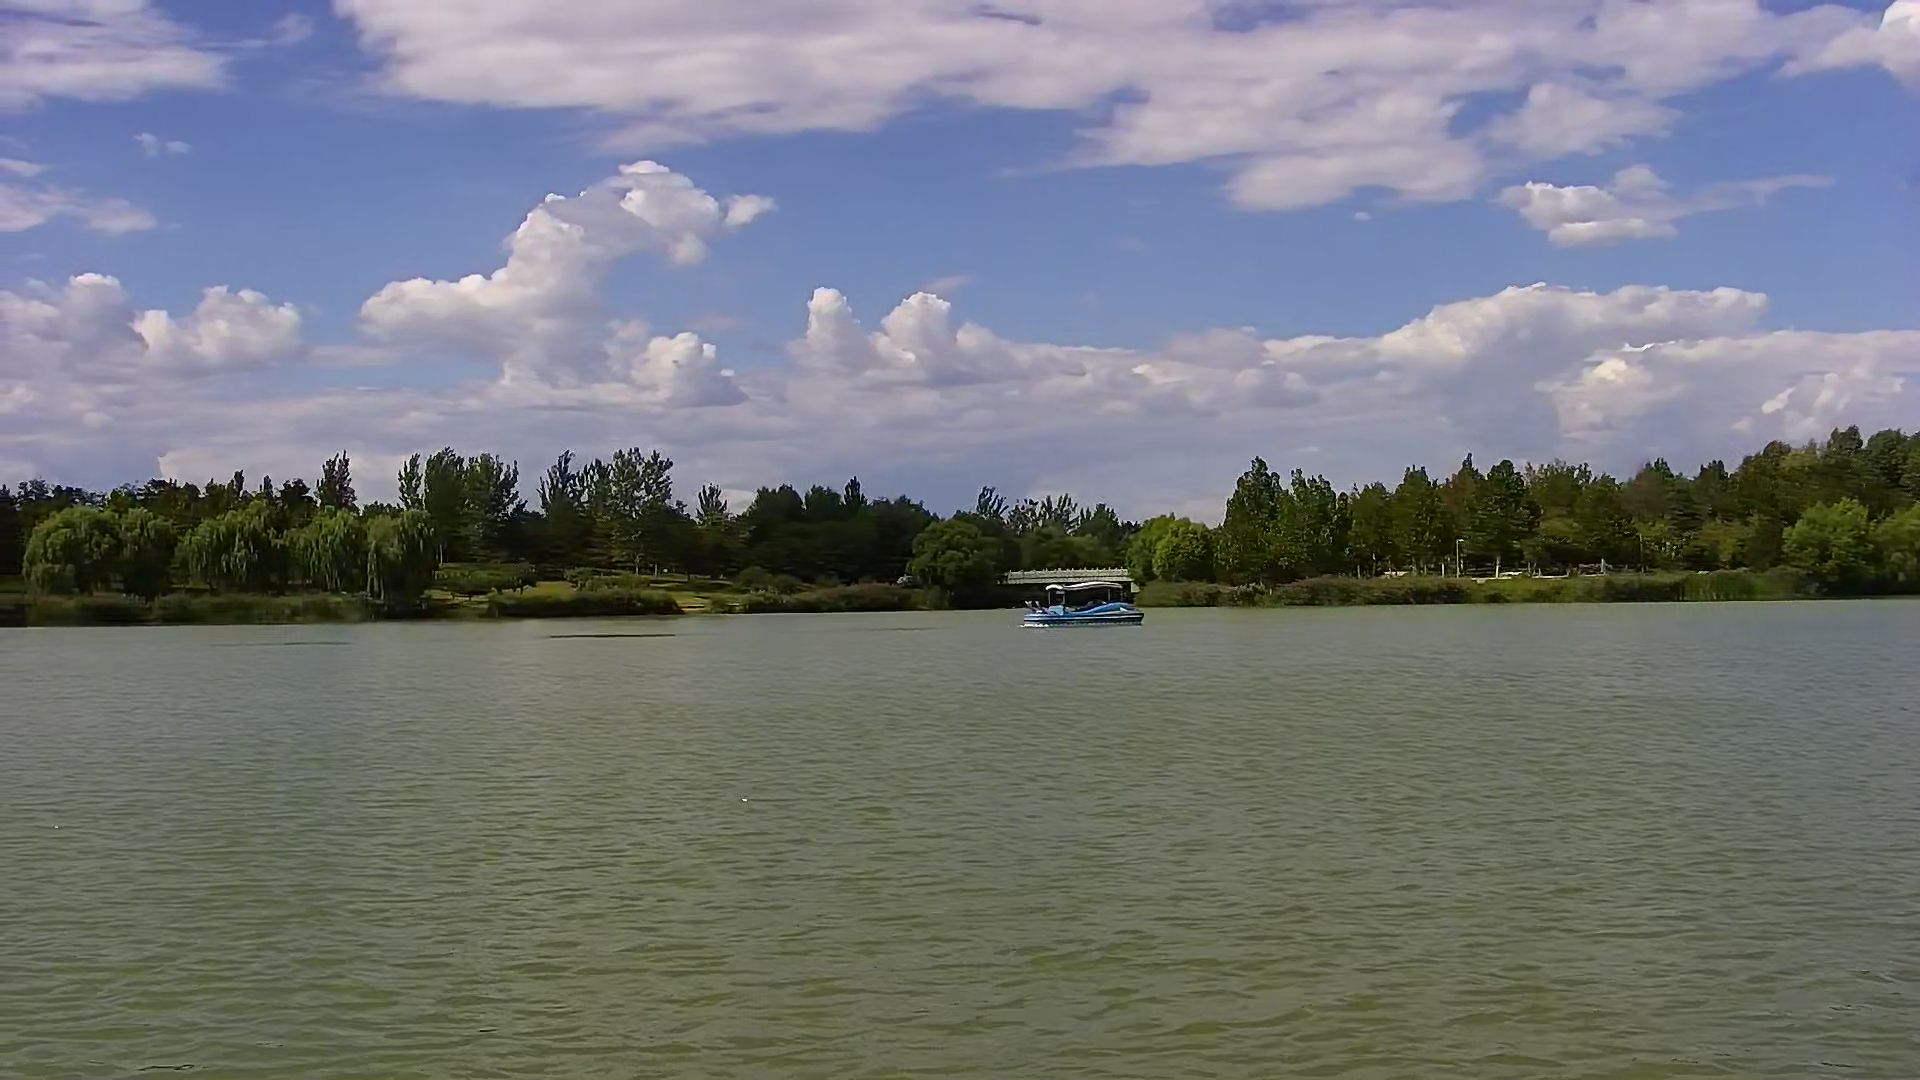boat: (1022, 576, 1145, 630)
bridge: (1007, 564, 1139, 604)
